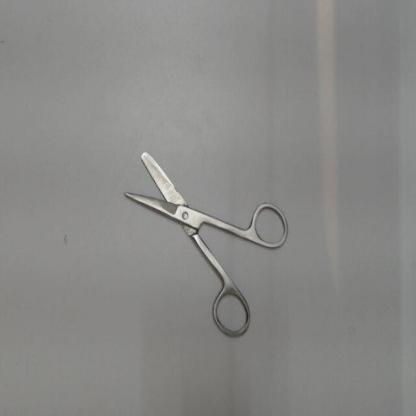Dressing Scissors: (113, 133, 293, 345)
